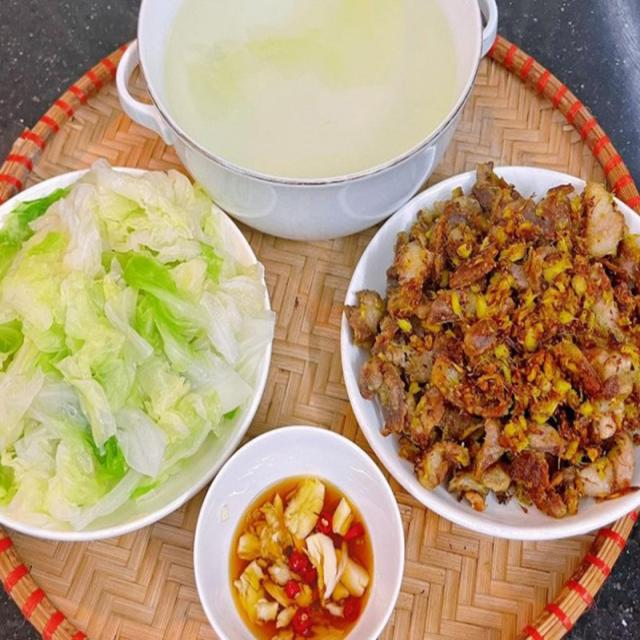bap cai luoc: (0, 163, 274, 534)
kho tieu: (346, 163, 639, 518)
nuoc mam: (230, 476, 374, 639)
